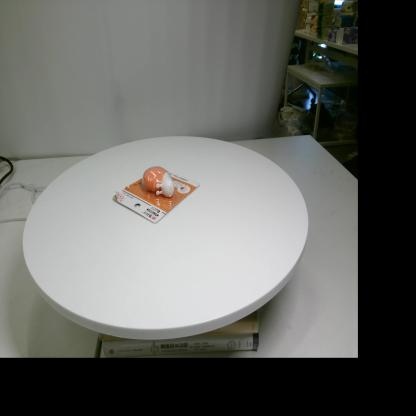Stationery: (113, 166, 200, 223)
